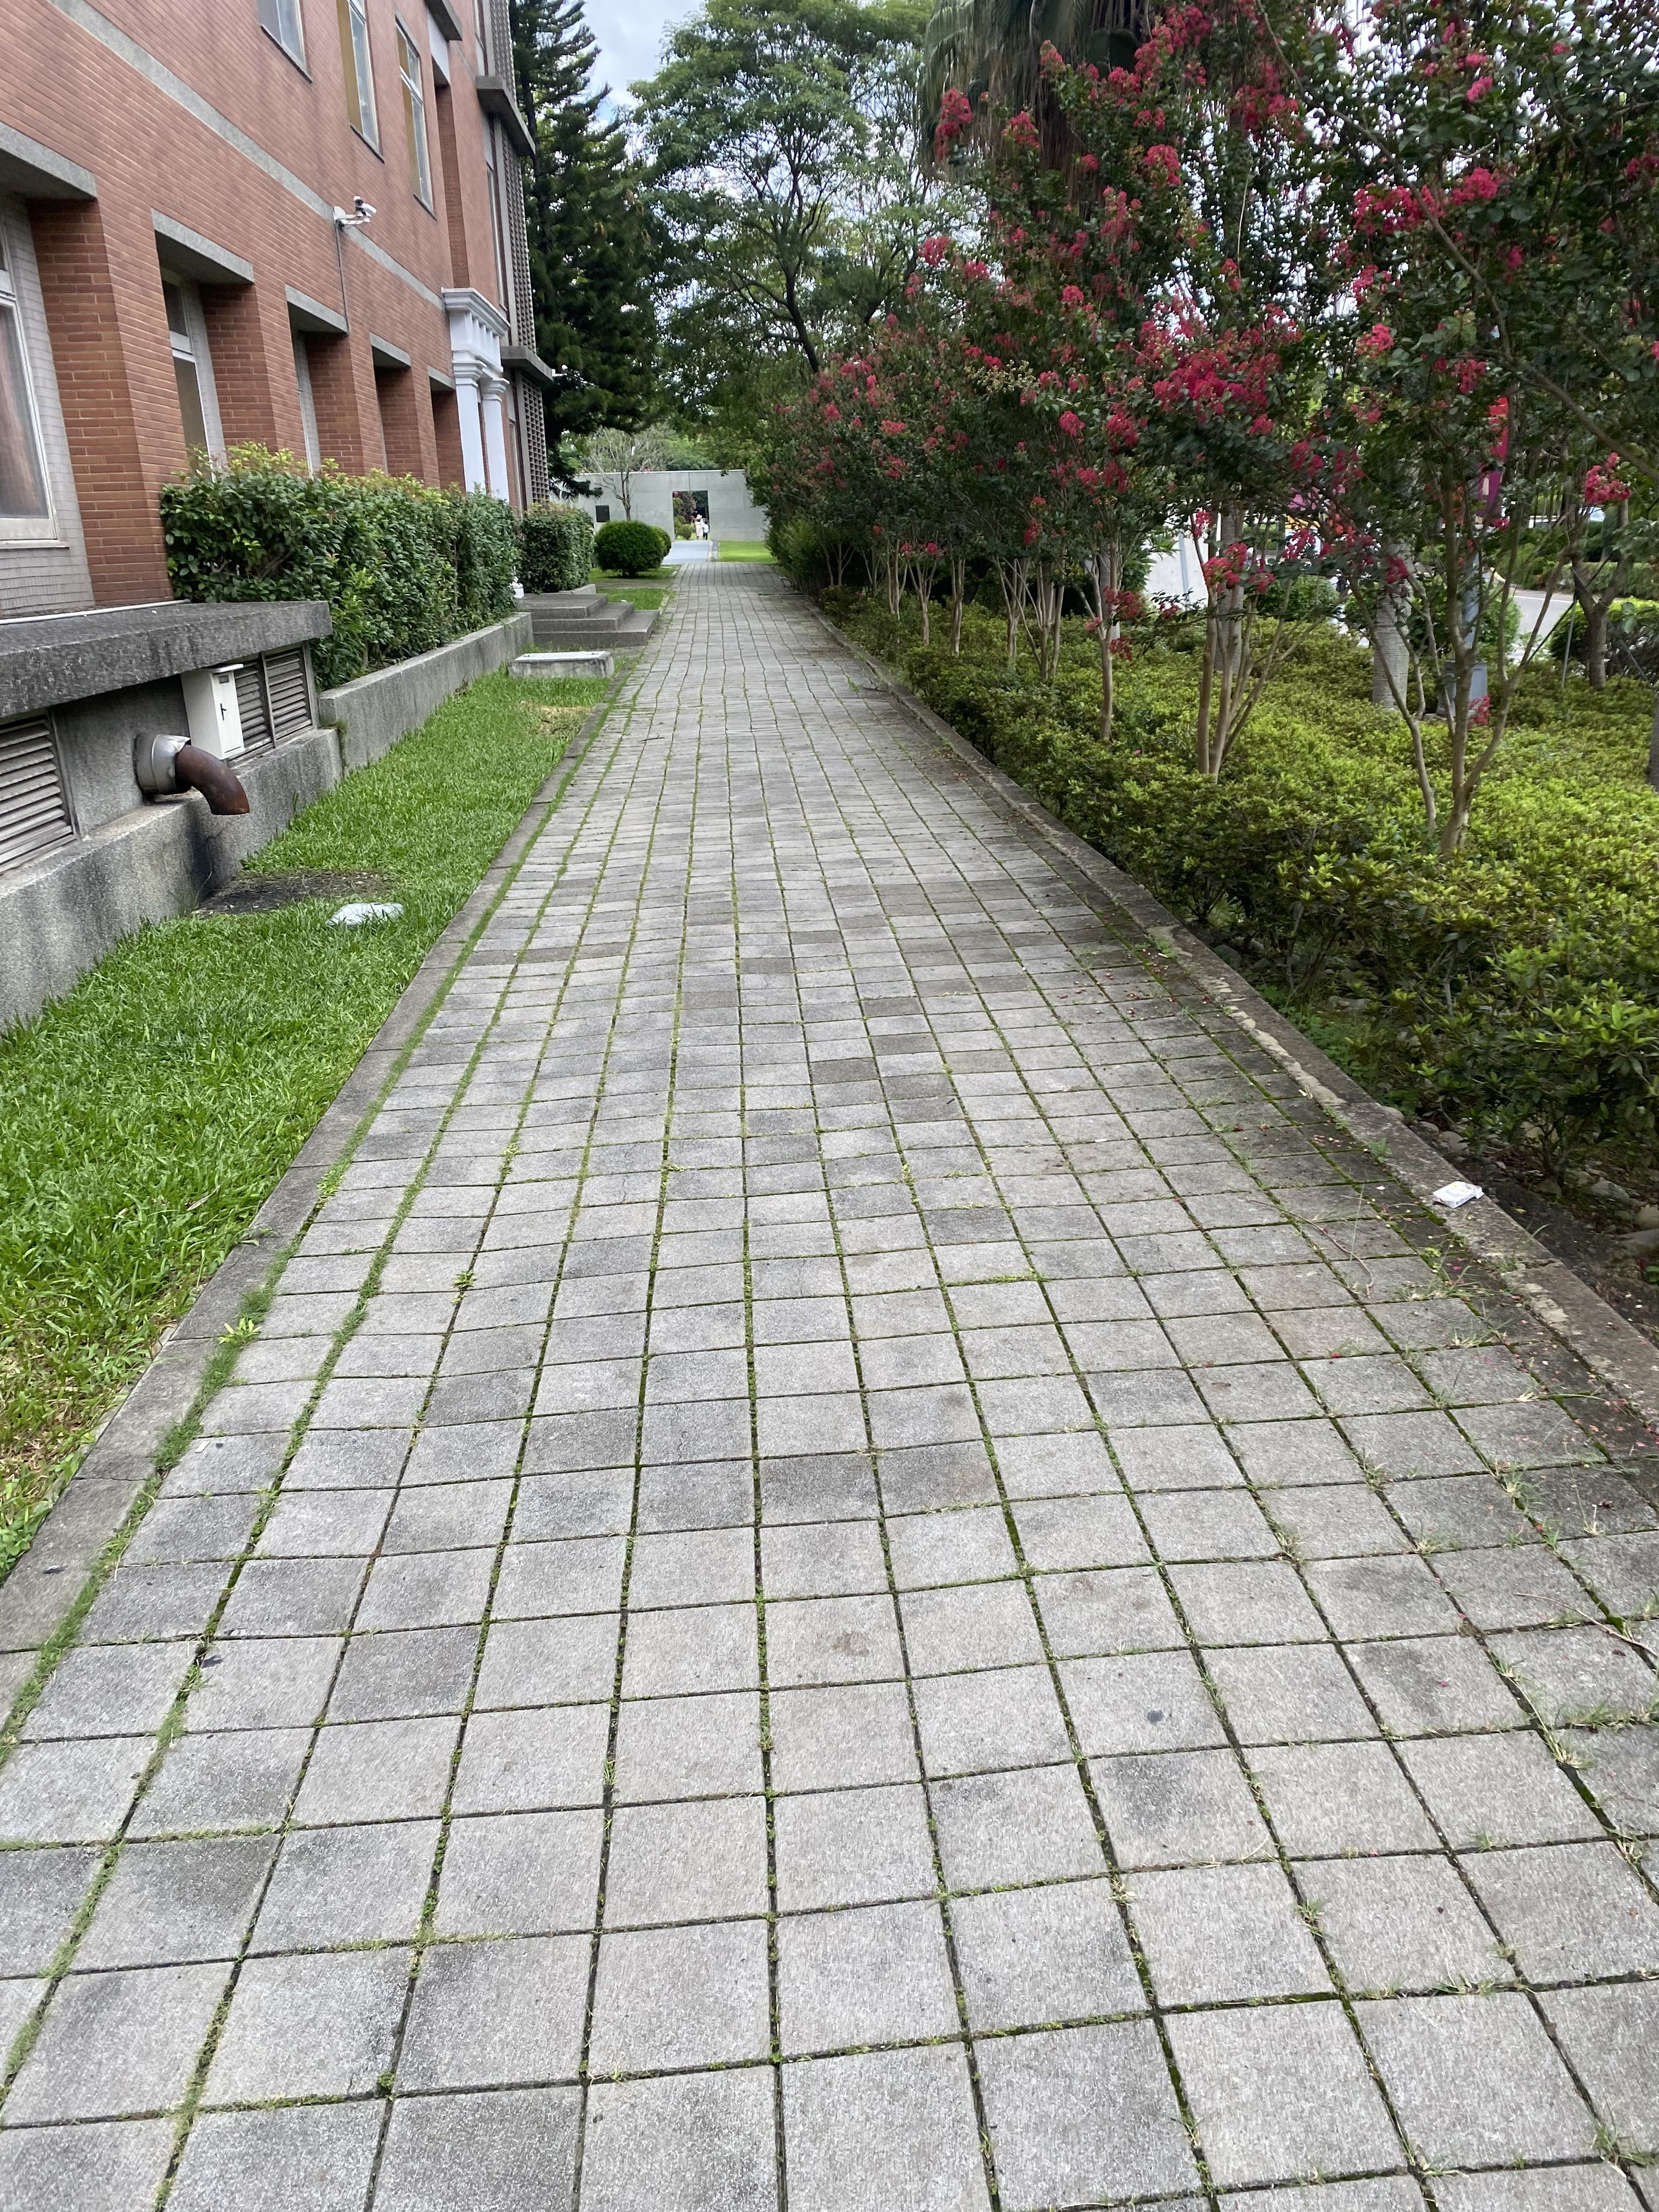0: (0, 972, 687, 2212)
sidewalk: (457, 510, 1659, 2212)
